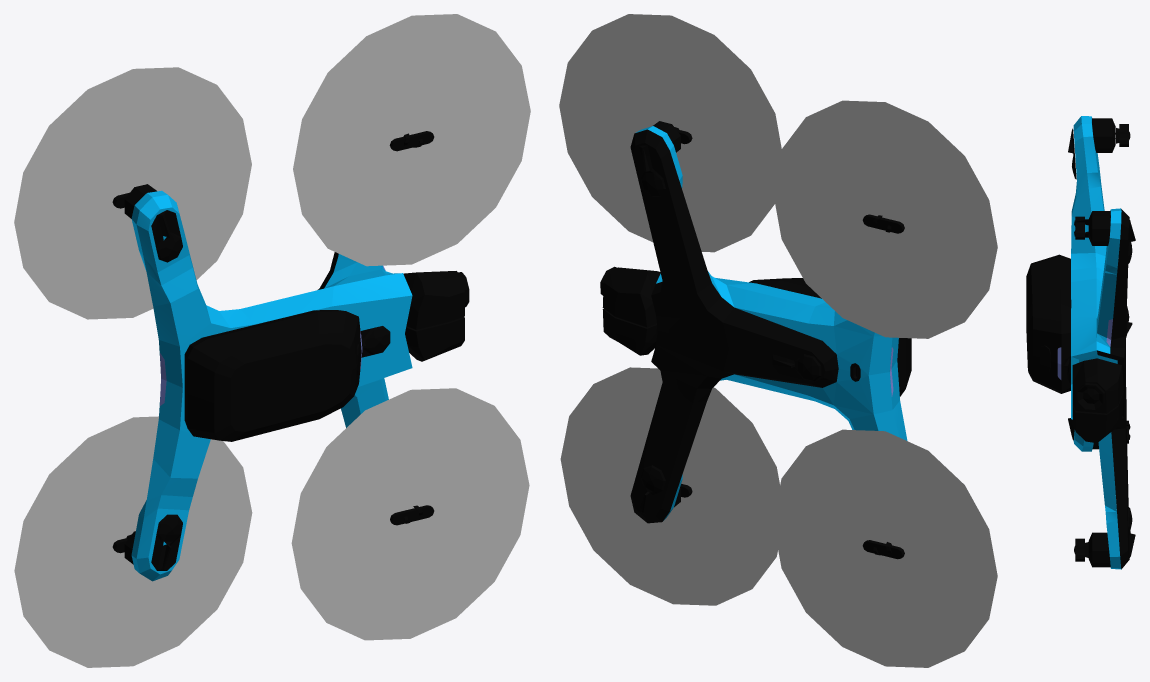
File: skydio_2_1000_poly.gltf
3 views of the same model, side by side, from view 1: azimuth 30°, elevation 25°; view 2: azimuth 150°, elevation 25°; view 3: azimuth 270°, elevation 25° (orthographic). The views are drawn at different scales.
Parts seen in each view (by area): view 1: 001_CirclePlane_3, 003_CirclePlane_2, 002_CirclePlane_1, 000_CirclePlane, 009_Cylinder026_-_baked_1, 004_Box008_-_baked, 012_Object002_-_baked, 015_Cylinder038_-_baked, 018_Object003_-_baked, 014_Cylinder037_-_baked; view 2: 002_CirclePlane_1, 000_CirclePlane, 003_CirclePlane_2, 001_CirclePlane_3, 008_Cylinder026_-_baked, 009_Cylinder026_-_baked_1, 012_Object002_-_baked, 017_Cylinder040_-_baked, 018_Object003_-_baked, 004_Box008_-_baked, 007_Cylinder024_-_baked, 011_Cylinder030_-_baked; view 3: 009_Cylinder026_-_baked_1, 004_Box008_-_baked, 008_Cylinder026_-_baked, 012_Object002_-_baked, 013_Cylinder036_-_baked, 018_Object003_-_baked, 010_Cylinder029_-_baked, 006_Cylinder023_-_baked, 014_Cylinder037_-_baked, 017_Cylinder040_-_baked, 015_Cylinder038_-_baked, 025_Button_Battery001_-_baked (+1 smaller).
Boxes of the visible parts, bbox=[...] form: 001_CirclePlane_3: bbox=[291, 388, 529, 640]; 003_CirclePlane_2: bbox=[293, 14, 530, 266]; 002_CirclePlane_1: bbox=[14, 67, 251, 319]; 000_CirclePlane: bbox=[14, 416, 252, 667]; 009_Cylinder026_-_baked_1: bbox=[131, 190, 412, 581]; 004_Box008_-_baked: bbox=[184, 310, 361, 441]; 012_Object002_-_baked: bbox=[403, 271, 464, 329]; 015_Cylinder038_-_baked: bbox=[151, 210, 182, 570]; 018_Object003_-_baked: bbox=[405, 317, 464, 361]; 014_Cylinder037_-_baked: bbox=[389, 131, 434, 525]; 002_CirclePlane_1: bbox=[773, 100, 997, 338]; 000_CirclePlane: bbox=[773, 429, 997, 667]; 003_CirclePlane_2: bbox=[559, 14, 781, 252]; 001_CirclePlane_3: bbox=[560, 367, 779, 605]; 008_Cylinder026_-_baked: bbox=[630, 129, 838, 523]; 009_Cylinder026_-_baked_1: bbox=[636, 126, 907, 520]; 012_Object002_-_baked: bbox=[602, 267, 660, 327]; 017_Cylinder040_-_baked: bbox=[634, 145, 665, 516]; 018_Object003_-_baked: bbox=[602, 308, 657, 355]; 004_Box008_-_baked: bbox=[749, 278, 911, 396]; 007_Cylinder024_-_baked: bbox=[772, 348, 821, 381]; 011_Cylinder030_-_baked: bbox=[862, 214, 904, 559]; 009_Cylinder026_-_baked_1: bbox=[1071, 116, 1121, 569]; 004_Box008_-_baked: bbox=[1026, 254, 1071, 393]; 008_Cylinder026_-_baked: bbox=[1097, 209, 1129, 569]; 012_Object002_-_baked: bbox=[1072, 358, 1123, 413]; 013_Cylinder036_-_baked: bbox=[1074, 211, 1110, 567]; 018_Object003_-_baked: bbox=[1072, 391, 1123, 442]; 010_Cylinder029_-_baked: bbox=[1092, 118, 1130, 449]; 006_Cylinder023_-_baked: bbox=[1076, 383, 1104, 411]; 014_Cylinder037_-_baked: bbox=[1075, 216, 1084, 561]; 017_Cylinder040_-_baked: bbox=[1128, 220, 1135, 558]; 015_Cylinder038_-_baked: bbox=[1068, 128, 1076, 440]; 025_Button_Battery001_-_baked: bbox=[1039, 345, 1050, 372].
Bounding box in the file's own units: 133 × 161 × 29.76.
